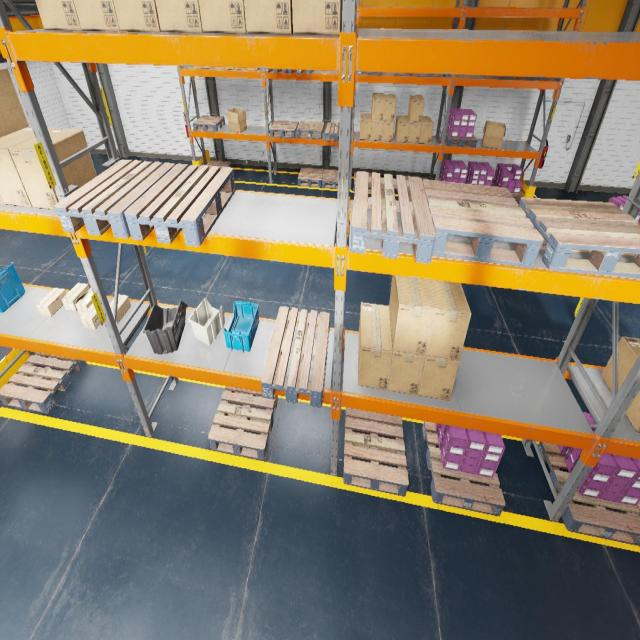box: (9, 128, 97, 209), (0, 126, 55, 207), (601, 337, 640, 432), (389, 275, 435, 355), (426, 279, 471, 360), (358, 302, 393, 390), (388, 318, 426, 395), (0, 67, 29, 137), (418, 356, 459, 400), (292, 0, 342, 34), (198, 0, 247, 33), (244, 0, 292, 33), (155, 0, 203, 32), (113, 0, 160, 31), (74, 0, 120, 31), (35, 0, 82, 30), (37, 287, 66, 316), (62, 282, 89, 310), (482, 120, 506, 149), (109, 294, 131, 323), (75, 282, 93, 315), (80, 303, 100, 329), (227, 108, 247, 133), (394, 115, 410, 142), (408, 95, 424, 121), (419, 116, 433, 144), (408, 115, 421, 143), (383, 94, 396, 120), (372, 93, 384, 120), (360, 113, 371, 140), (381, 120, 394, 141), (370, 120, 383, 140), (0, 195, 4, 204)
pallets: (422, 180, 544, 268), (538, 441, 640, 546), (519, 198, 640, 278), (54, 160, 175, 238), (124, 164, 235, 246), (350, 171, 436, 264), (422, 421, 506, 516), (260, 306, 330, 407), (343, 407, 409, 496), (0, 352, 86, 413), (208, 386, 278, 460), (492, 183, 524, 205), (442, 128, 477, 148), (193, 115, 225, 132), (269, 120, 299, 138), (298, 167, 324, 187), (296, 121, 324, 139), (354, 172, 372, 192), (322, 169, 338, 188), (325, 122, 339, 142), (206, 160, 232, 170), (288, 69, 313, 74), (382, 72, 411, 76), (405, 176, 428, 181), (413, 74, 445, 77), (264, 69, 288, 73), (358, 72, 382, 75), (636, 502, 640, 516)
